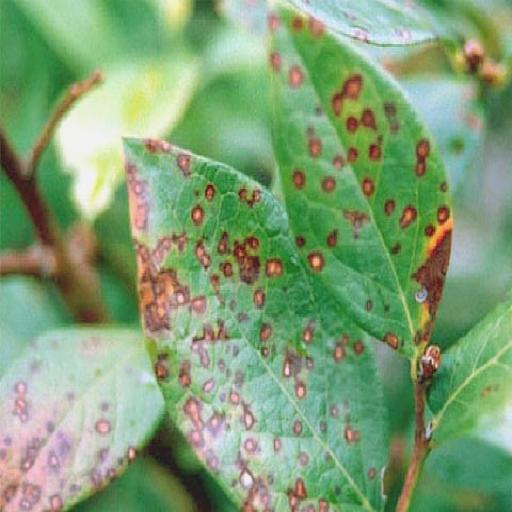disease_tomato: (118, 130, 392, 508), (270, 0, 462, 359), (0, 318, 168, 512)
